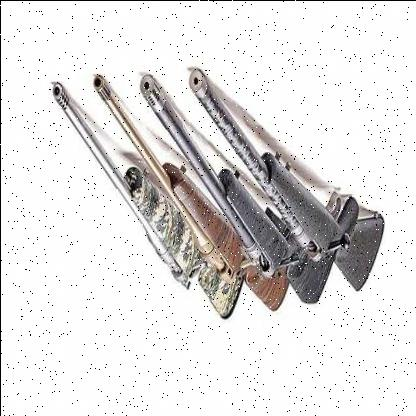rifle: (183, 52, 386, 291)
